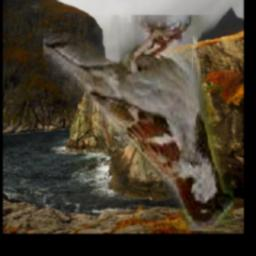Sparrow: (43, 15, 233, 231)
